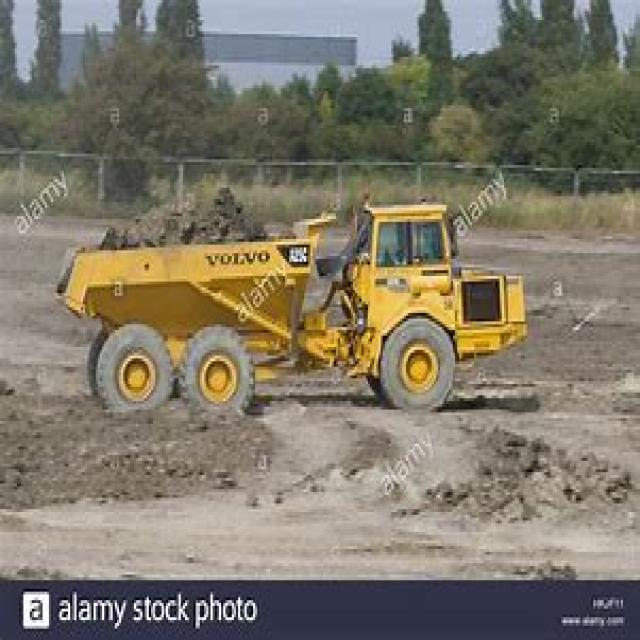dump_truck: (57, 173, 523, 421)
